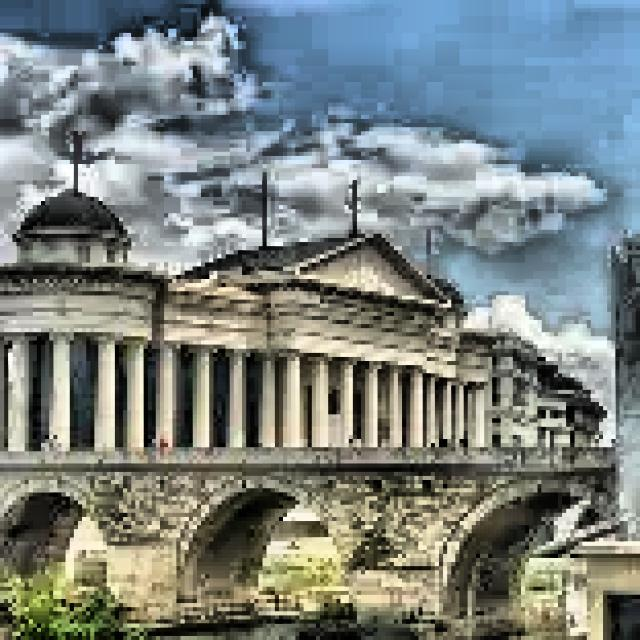stone bridge: (0, 425, 628, 640)
